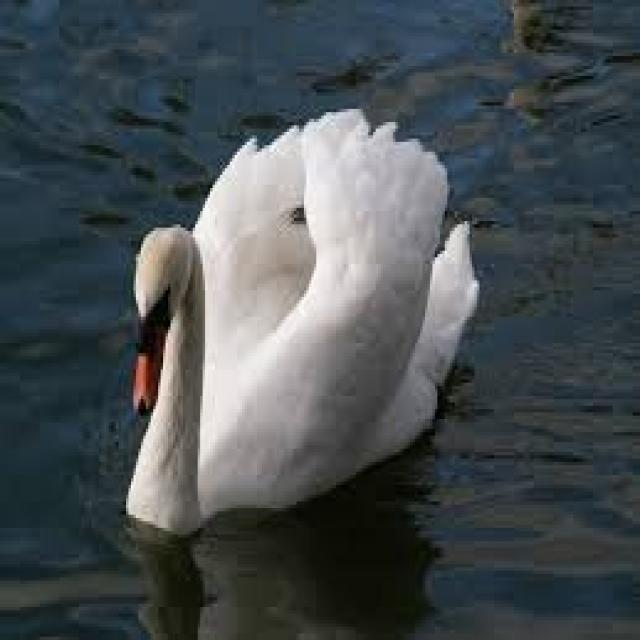swan: (126, 109, 477, 531)
